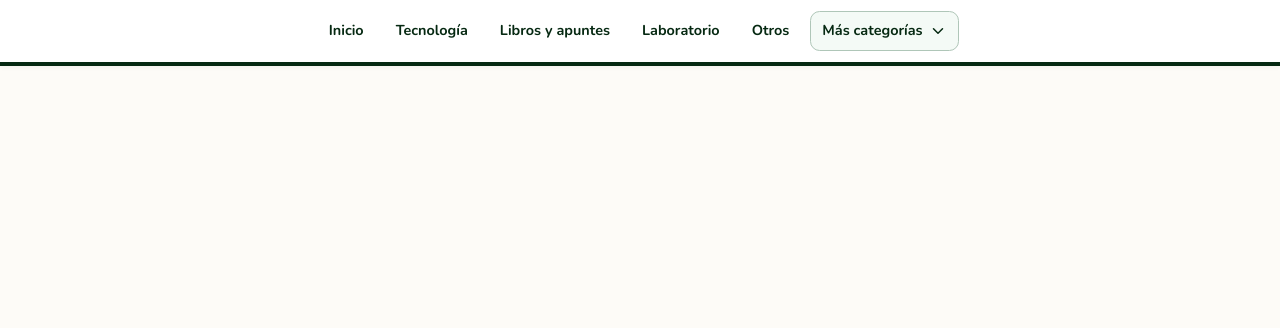
preserves search and condition when choosing a category and closes after navigation
The image size is (1280, 328).
Click the button "Más categorías". click: [885, 31]
box: [810,11,959,51]
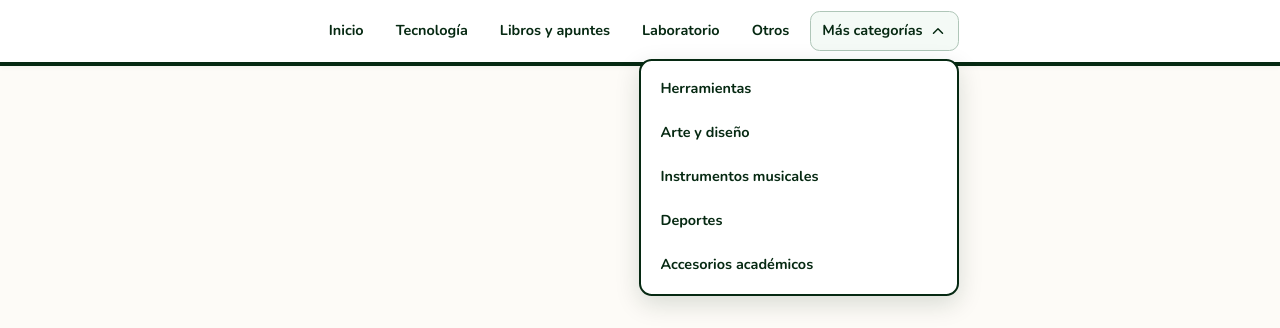
Click the link "Deportes". click: [691, 220]
box: [660,210,722,230]
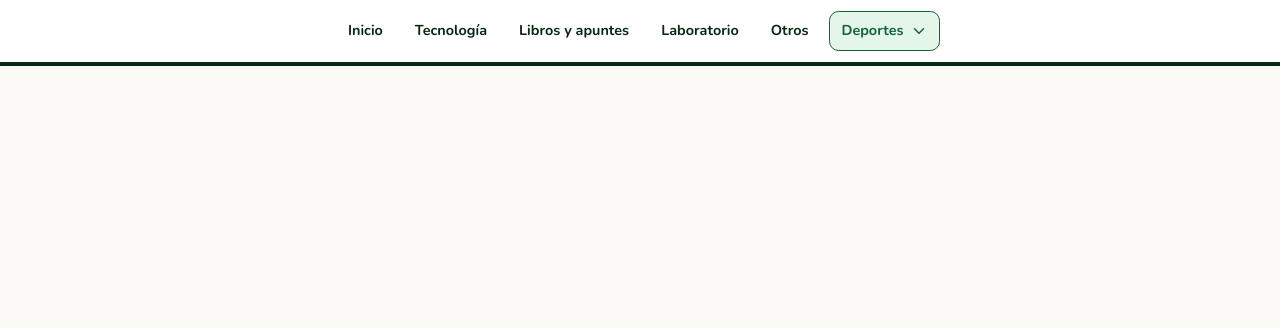
Check: the button "Deportes" is collapsed, box [829,11,940,51]
